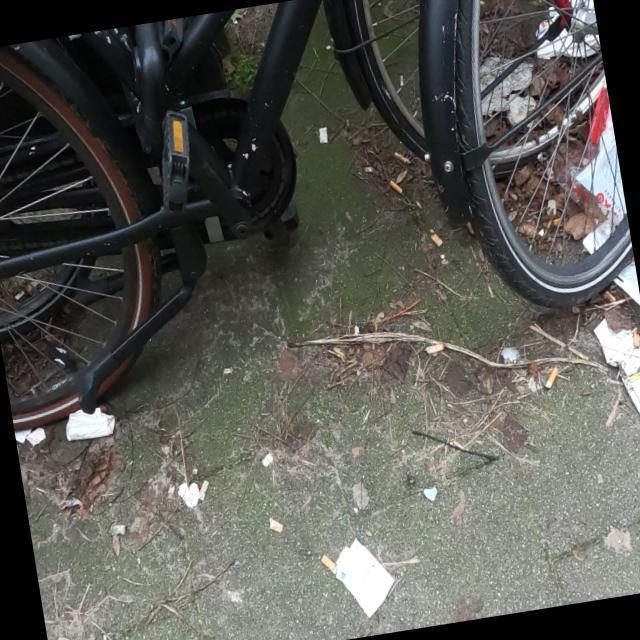Paper: (334, 537, 396, 620), (592, 316, 640, 416), (534, 0, 600, 60), (479, 55, 536, 118), (65, 406, 116, 443), (508, 91, 542, 128)
Plastic: (556, 82, 630, 255)
